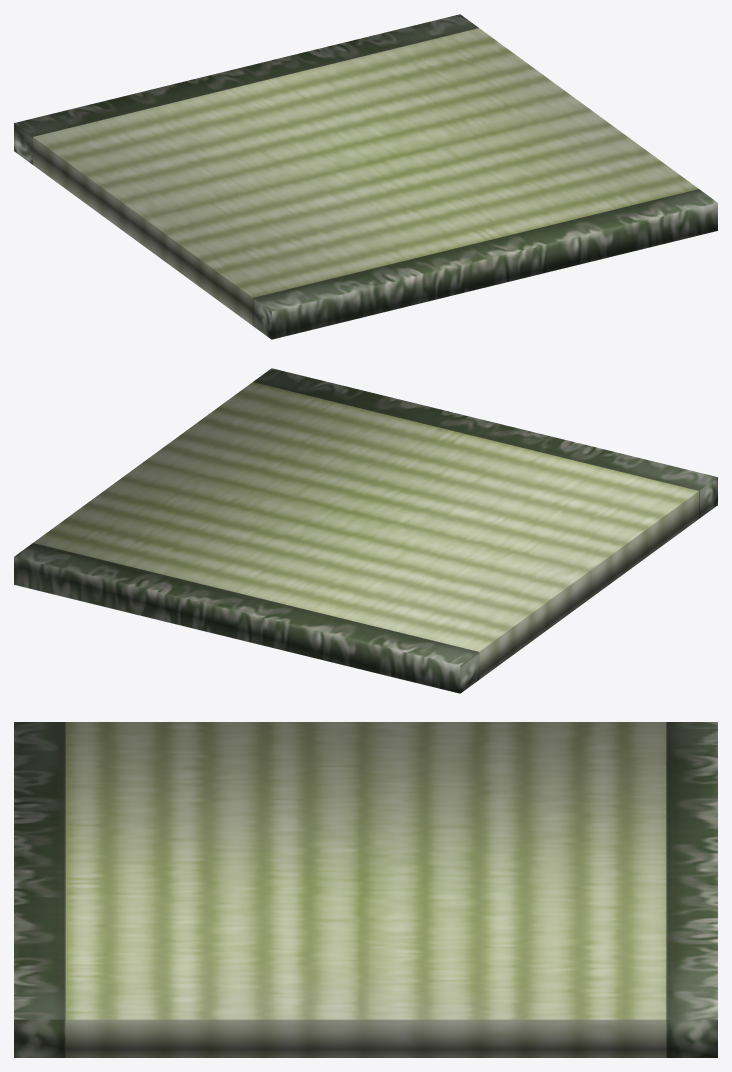
Rendered from JapaneseTatami1_HD.fbx.
3 renders of one model, top to bottom at view 1: azimuth 30°, elevation 25°; view 2: azimuth 150°, elevation 25°; view 3: azimuth 270°, elevation 25°, orthographic. The views are drawn at different scales.
Visible parts, largest first — view 1: JapaneseTatami1; view 2: JapaneseTatami1; view 3: JapaneseTatami1.
Part boxes in pixels (x1,y1,x2,y2): JapaneseTatami1: (14,14,717,339); JapaneseTatami1: (14,368,717,693); JapaneseTatami1: (14,722,717,1057).
Size of the model in its own units: 1 by 0.06 by 1.
